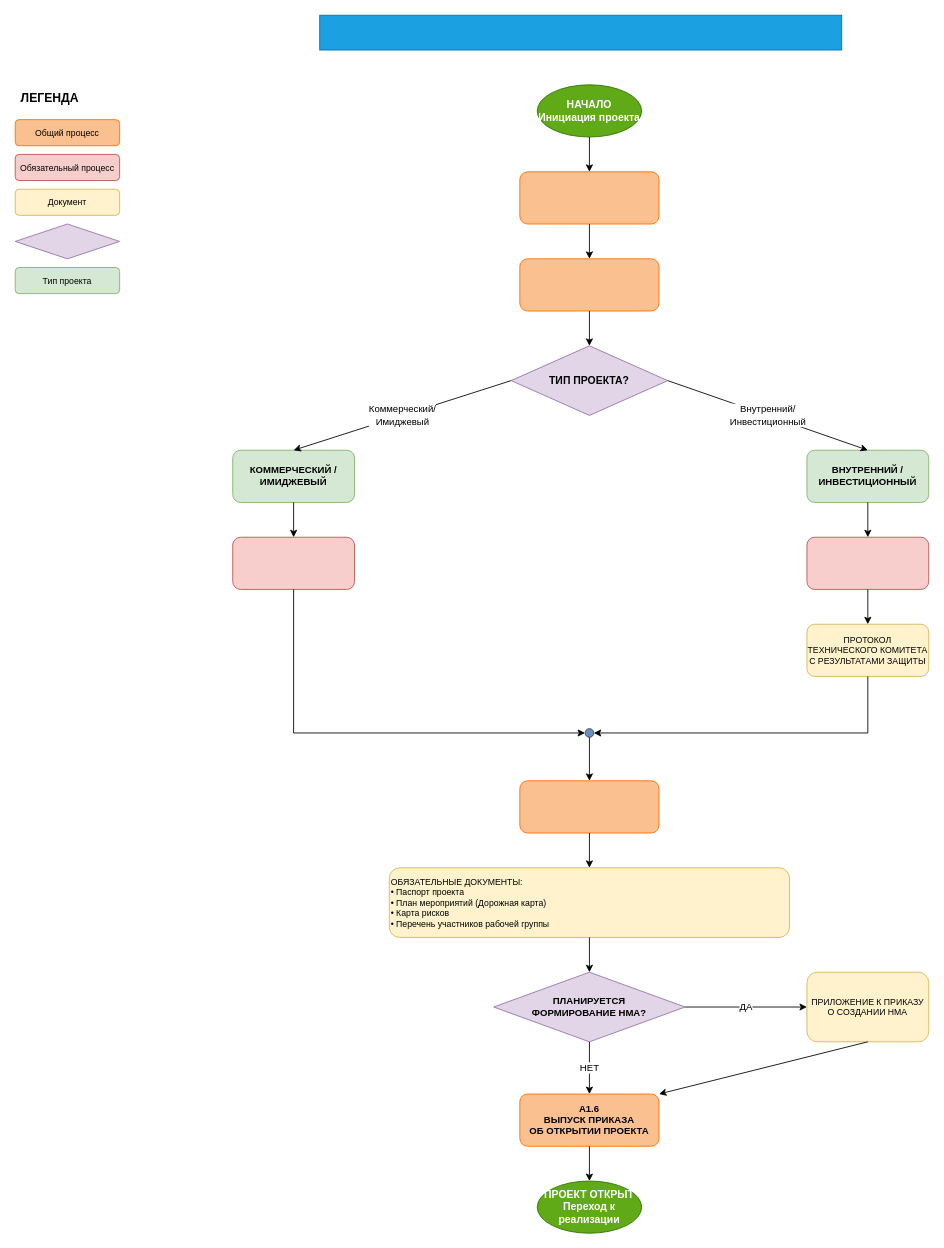
Some shapes in this 944 by 1248 pixel diagram are drawn without their labels. Each missing label, with the centre of its shape:
"А1.1 ОПРЕДЕЛЕНИЕ РУКОВОДИТЕЛЯ ПРОЕКТА" belongs at (x=589, y=197).
"А1.2 ПОЛУЧЕНИЕ ID ПРОЕКТА (заявка в ДПУ)" belongs at (x=589, y=284).
"А1.3 ЗАКЛЮЧЕНИЕ ДОГОВОРА (ОБЯЗАТЕЛЬНО)" belongs at (x=293, y=562).
"А1.4 ЗАЩИТА НА ТЕХНИЧЕСКОМ КОМИТЕТЕ (ОБЯЗАТЕЛЬНО)" belongs at (x=867, y=562).
"А1.5 УТВЕРЖДЕНИЕ ДОКУМЕНТОВ НА ОТКРЫТИЕ ПРОЕКТА" belongs at (x=589, y=806).
"ПРОЦЕСС А1 - ОТКРЫТИЕ ПРОЕКТА" belongs at (x=580, y=32).
"Решение" belongs at (x=67, y=241).
